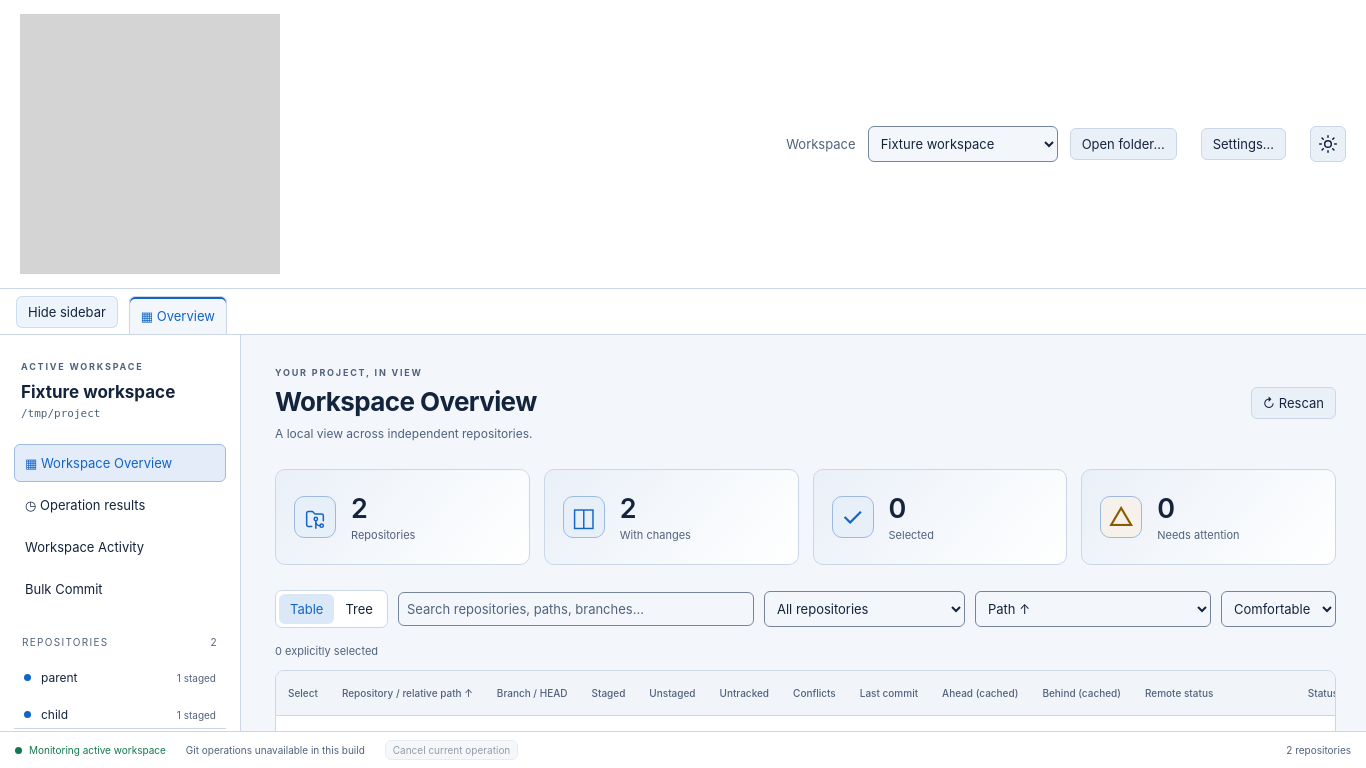
keeps audit pagination bound to applied filters until edited filters are submitted
Click the button "◷ Operation results". click: point(120, 505)
box: [14,486,226,524]
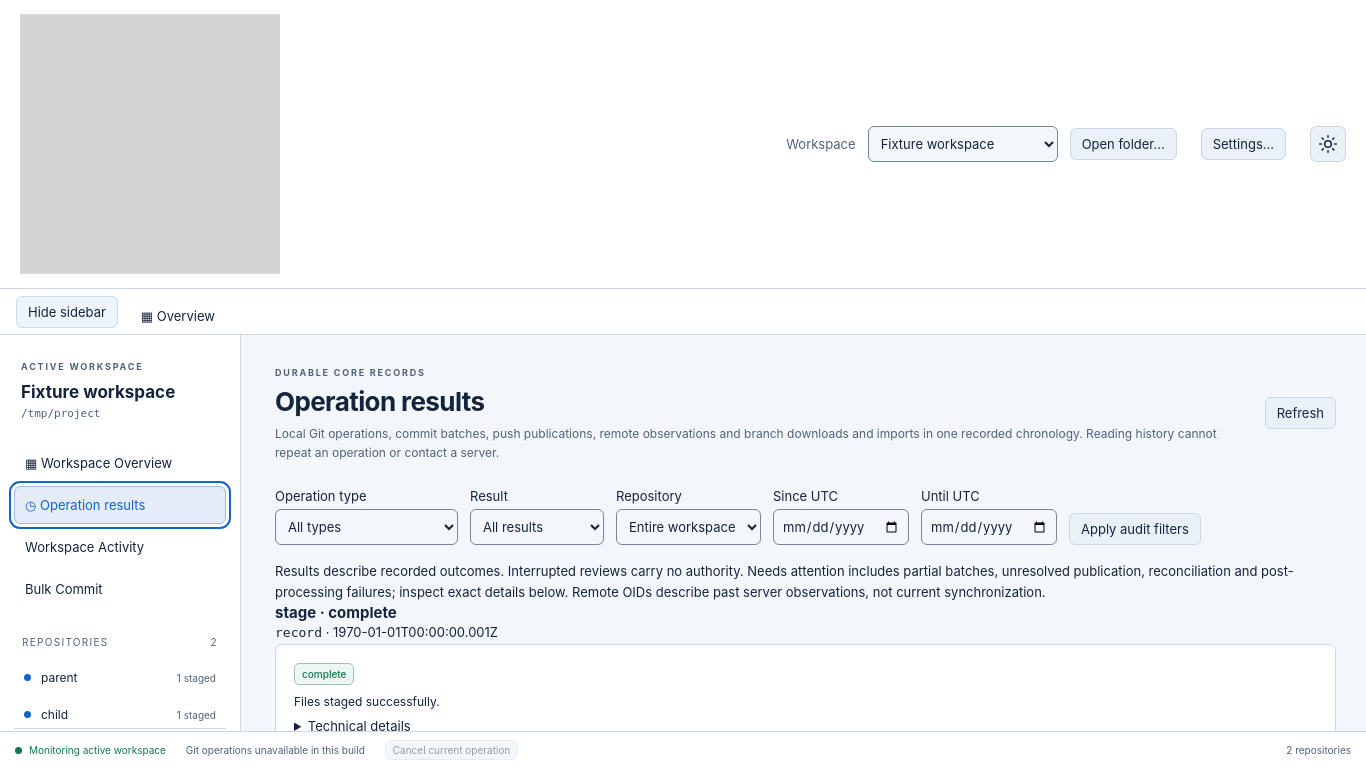
Select "commit" in the dropdown named "Audit operation type". click: point(366, 527)
box: [275,509,458,545]
(page scrolled)
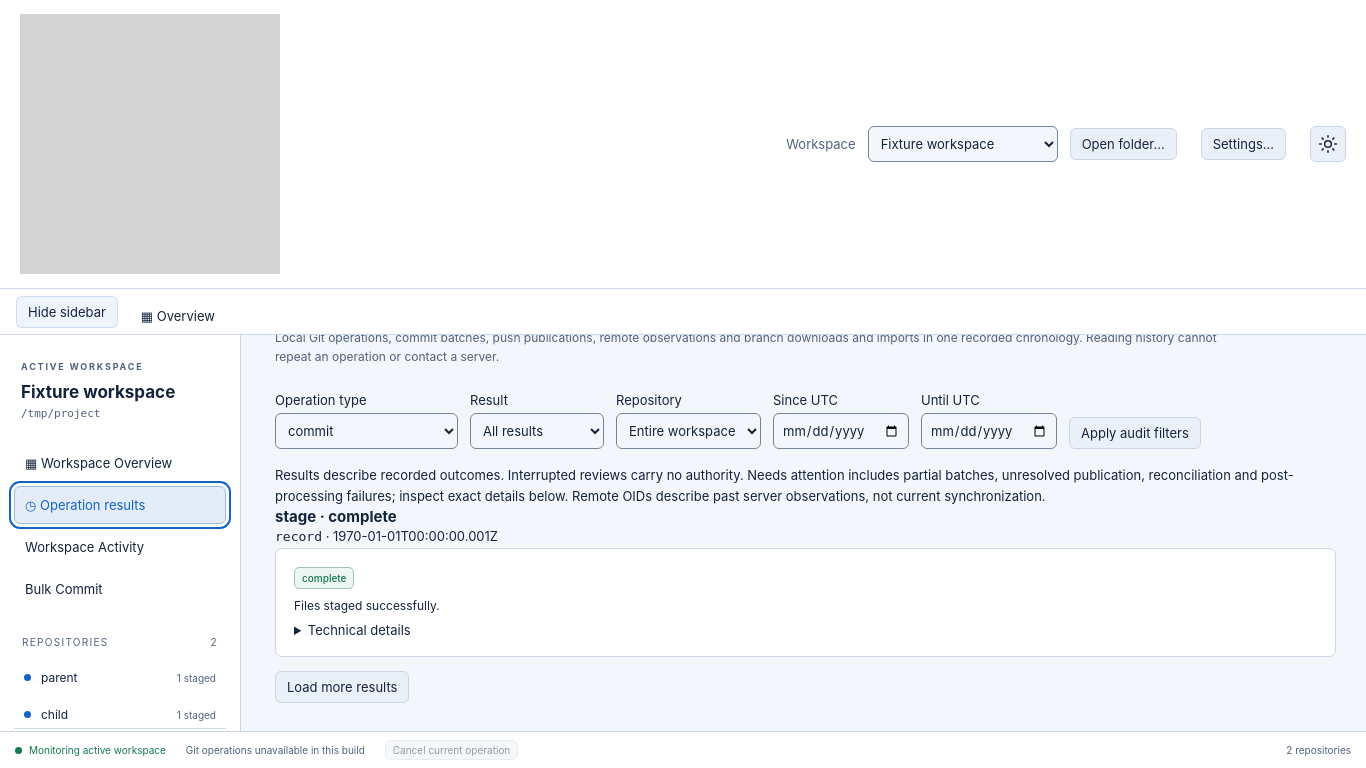
Click the button "Load more results". click: point(342, 687)
box: [275,671,409,703]
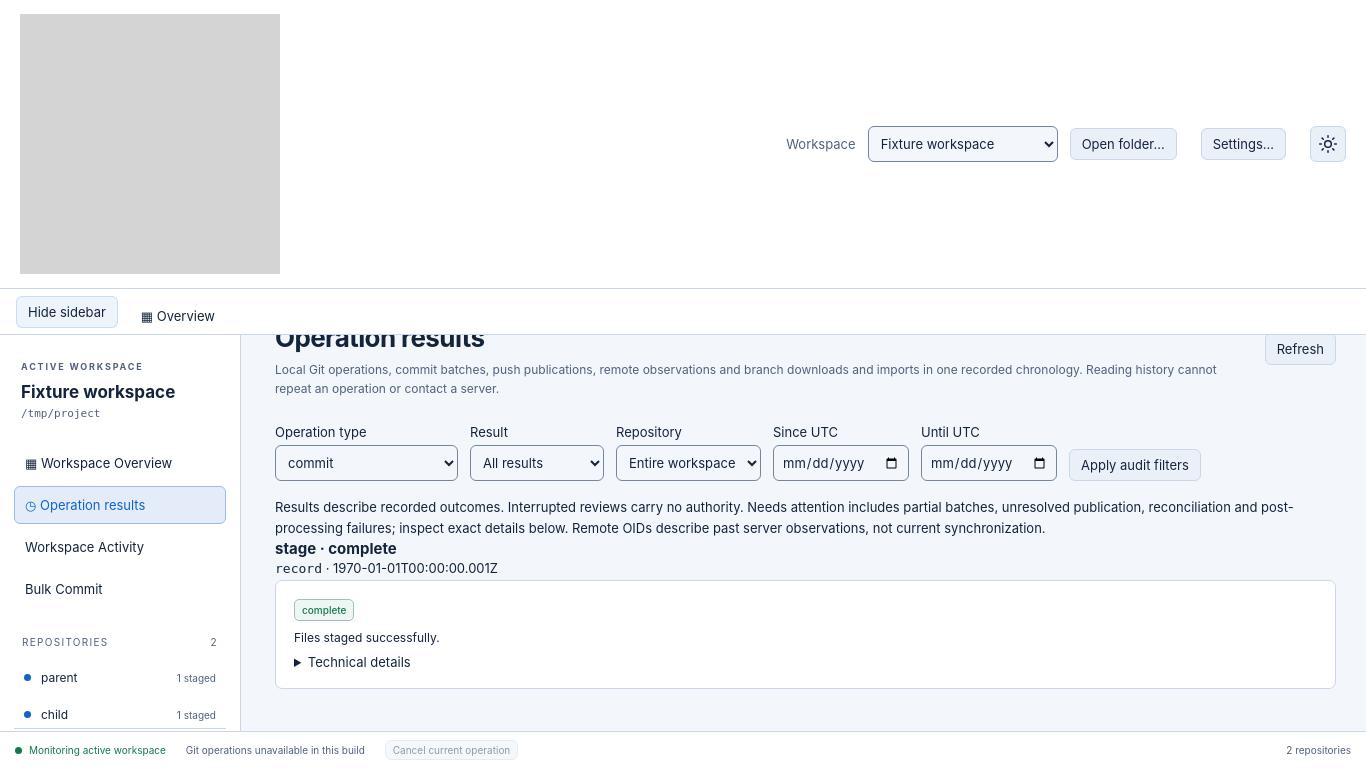
Click the button "Apply audit filters". click: point(1135, 465)
box: [1069,449,1201,481]
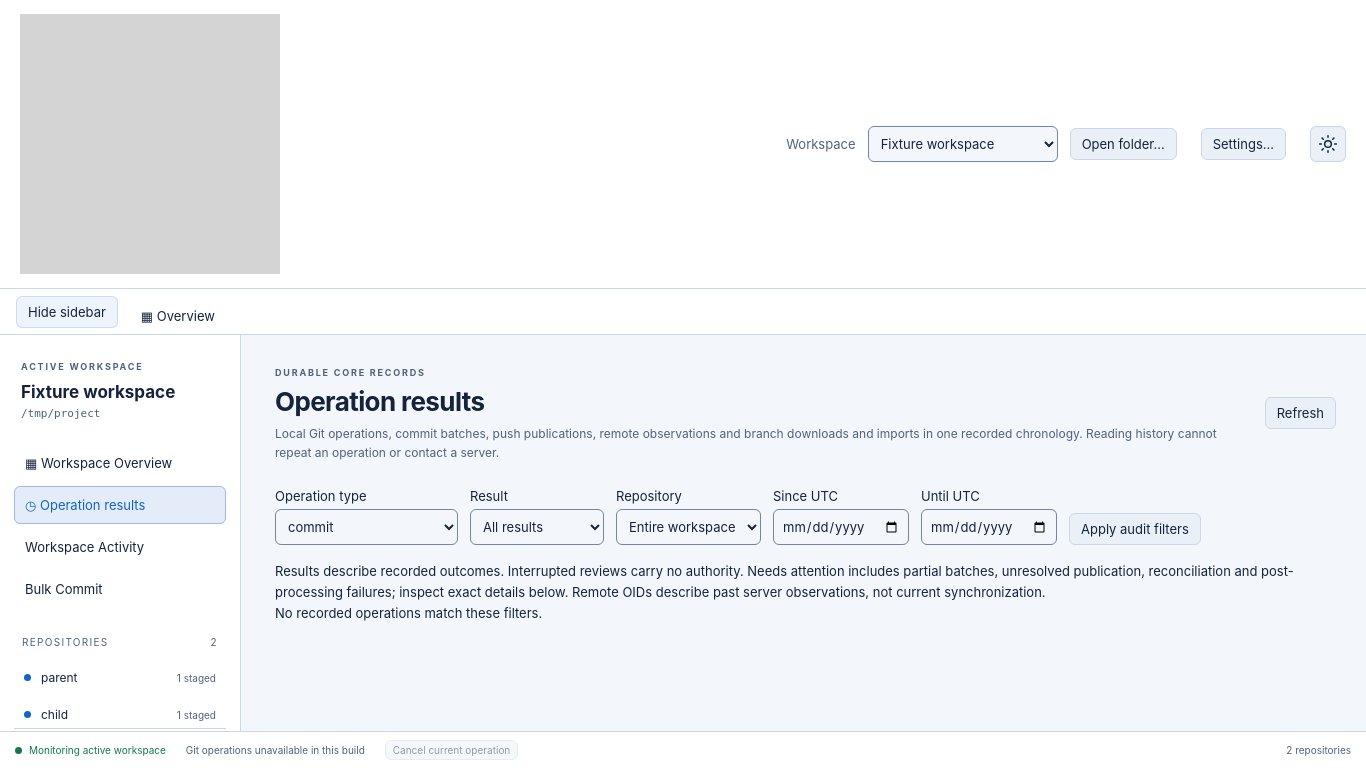
Result: the text "No recorded operations match these filters." is shown at [275,605,542,621]
